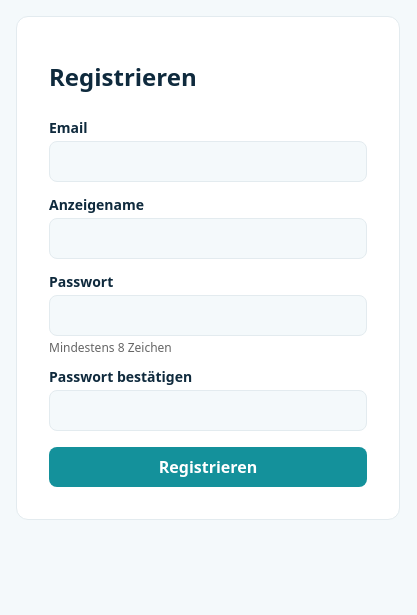
RegisterPage › shows an error and does not submit when passwords differ
Type "new@test.de" into the field labelled "Email" at (208, 162), box left=49, top=141, right=367, bottom=182
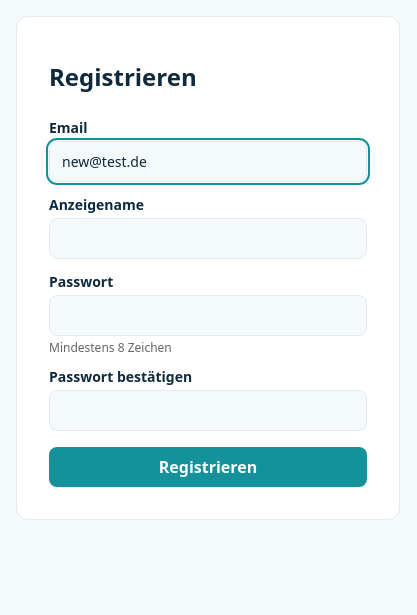
Type "Test" into the field labelled "Anzeigename" at (208, 239), box left=49, top=218, right=367, bottom=259
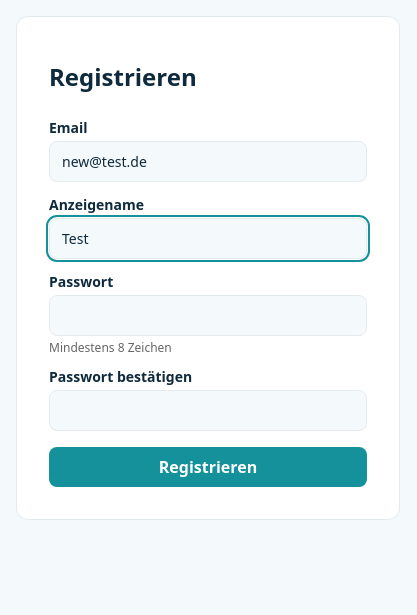
Type "Test1234!" into the password field labelled "Passwort" at (208, 316), box left=49, top=295, right=367, bottom=336
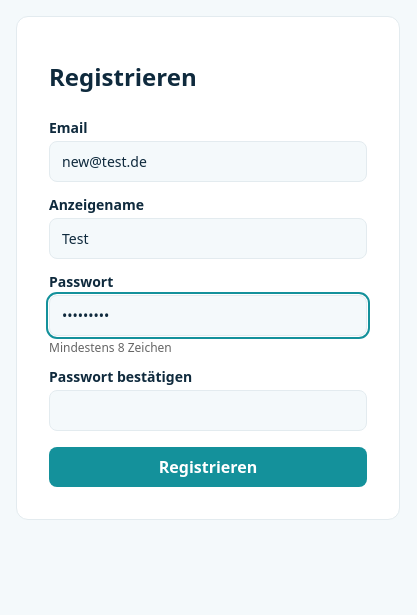
Type "Other1234!" into the password field labelled "Passwort bestätigen" at (208, 411), box left=49, top=390, right=367, bottom=431
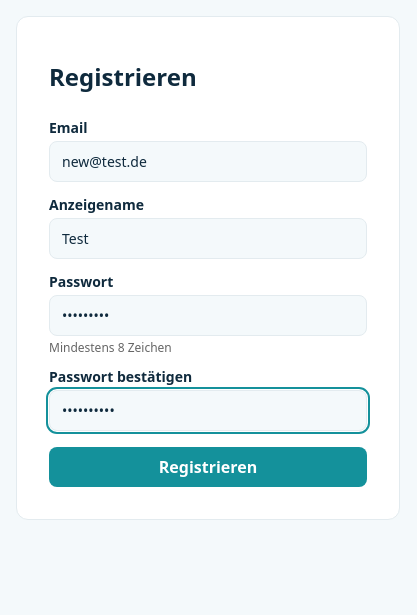
Click the button "Registrieren" at (208, 467), box left=49, top=447, right=367, bottom=487
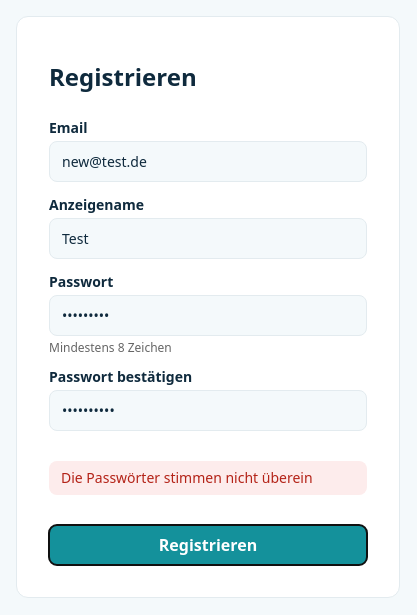
Expected: the message shows "stimmen nicht überein", left=61, top=468, right=313, bottom=487
